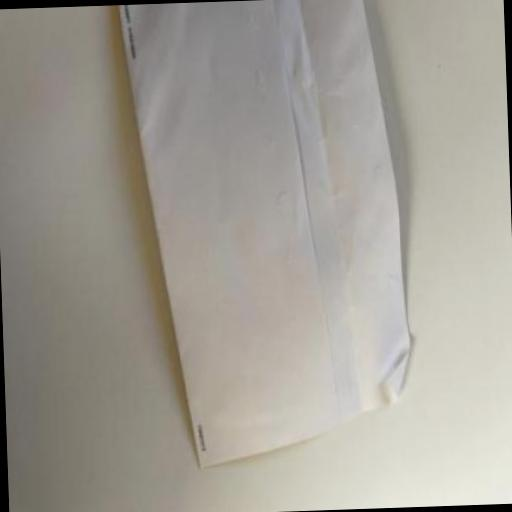paper: (119, 0, 416, 468)
